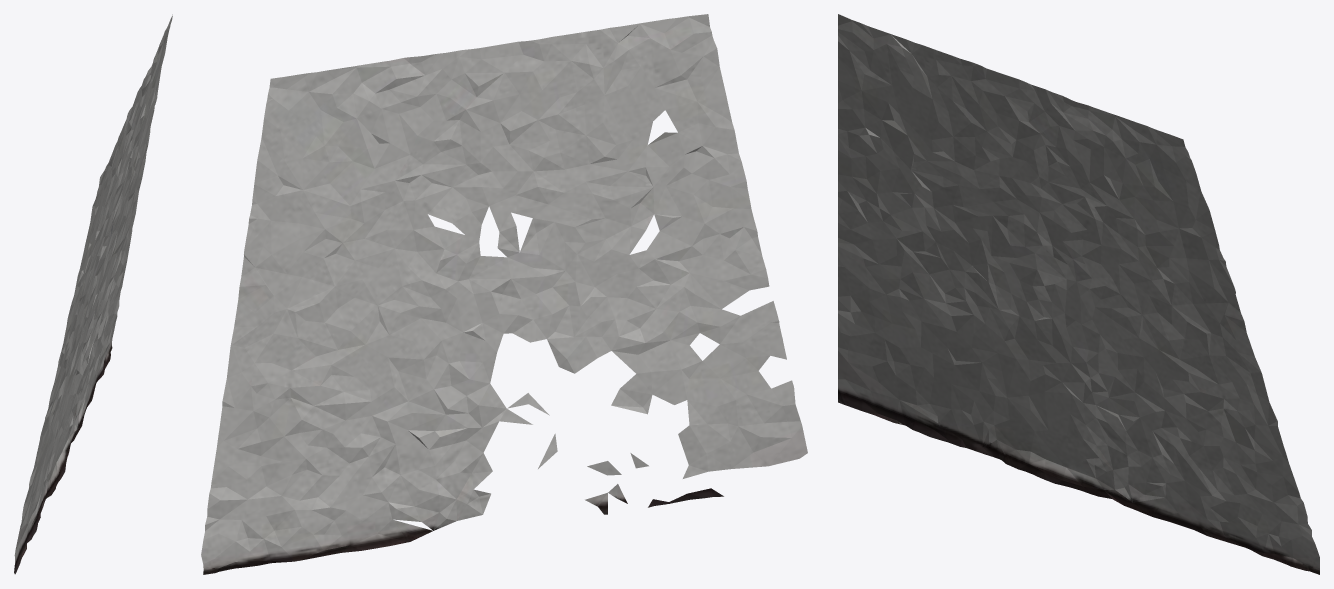
3 views of the same model, side by side, from view 1: azimuth 30°, elevation 25°; view 2: azimuth 150°, elevation 25°; view 3: azimuth 270°, elevation 25° (orthographic). The views are drawn at different scales.
Bounding box in the file's own units: 0.7161 × 0.8374 × 0.8374.
Materials: 3 (3 with a texture image).
